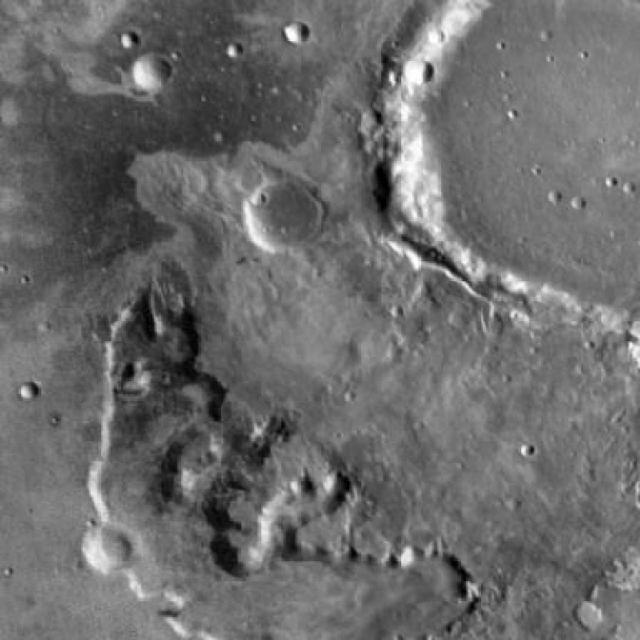crater: (0, 0, 640, 640), (381, 0, 640, 318), (244, 180, 322, 248), (78, 525, 134, 573), (130, 52, 170, 88), (406, 59, 434, 84), (21, 379, 41, 398), (286, 24, 306, 41)
